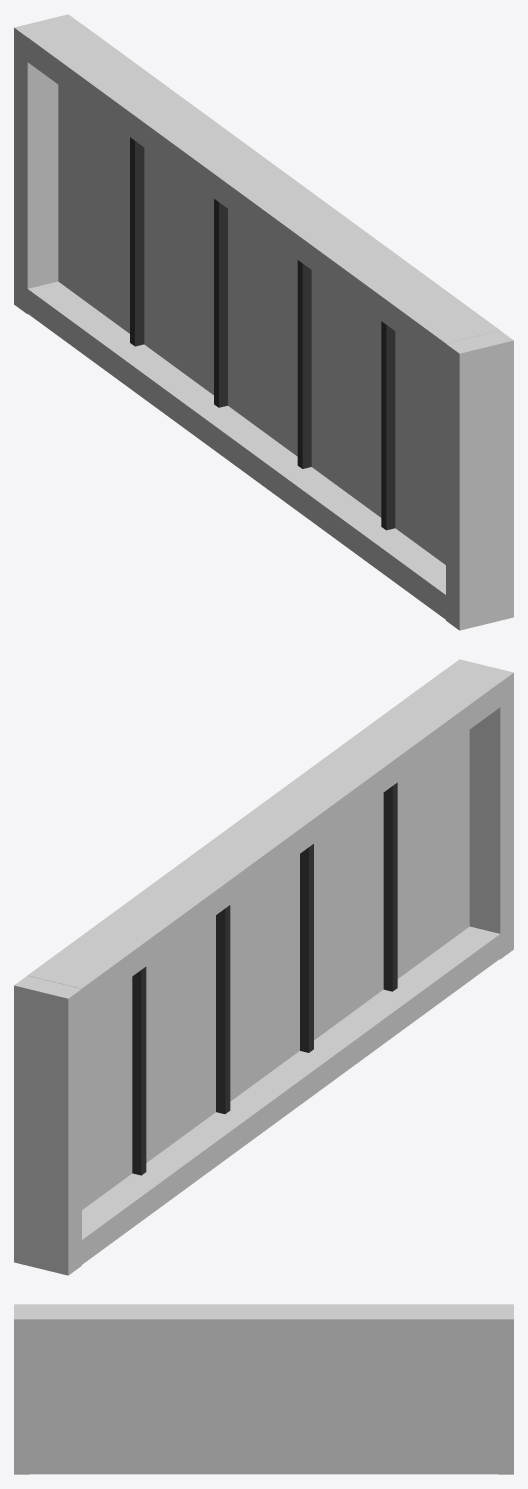
Rendered from HPBar.obj.
3 renders of one model, top to bottom at view 1: azimuth 30°, elevation 25°; view 2: azimuth 150°, elevation 25°; view 3: azimuth 270°, elevation 25°, orthographic. The views are drawn at different scales.
Visible parts, largest first — view 1: Cube.001; view 2: Cube.001; view 3: Cube.001.
Part boxes in pixels (x1=…): Cube.001: x1=14, y1=14, x2=513, y2=630; Cube.001: x1=14, y1=659, x2=513, y2=1275; Cube.001: x1=14, y1=1304, x2=513, y2=1474.
Size of the model in its own units: 0.15 by 0.7305 by 2.13.
